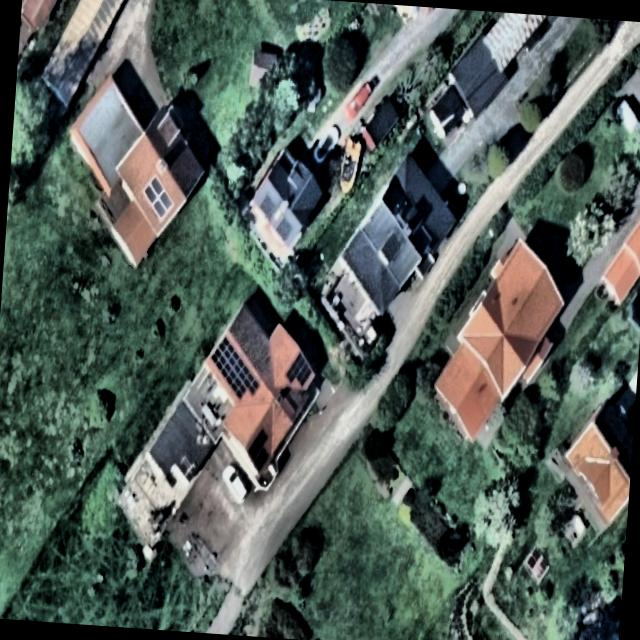roof_pv: (208, 336, 264, 400), (244, 424, 276, 474), (284, 348, 316, 389)
